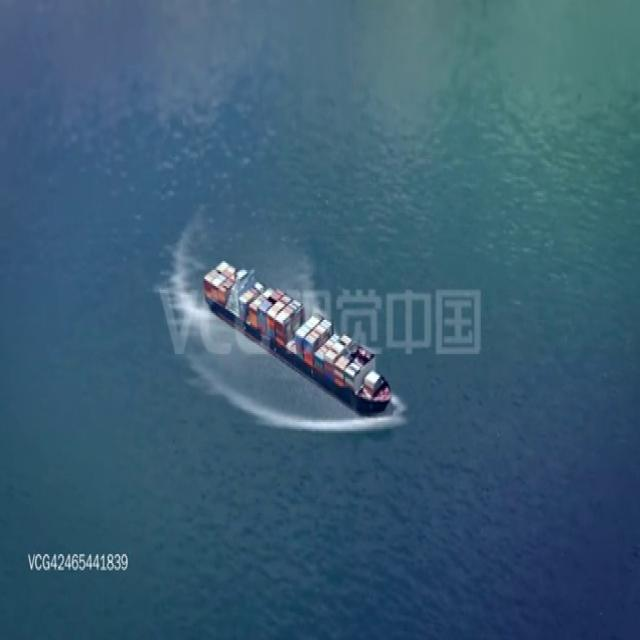cargoship: (203, 260, 390, 417)
